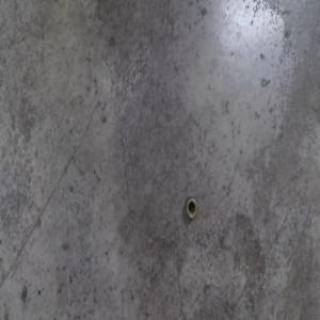Nuttrack_idkeyframe: (185, 195, 198, 221)
